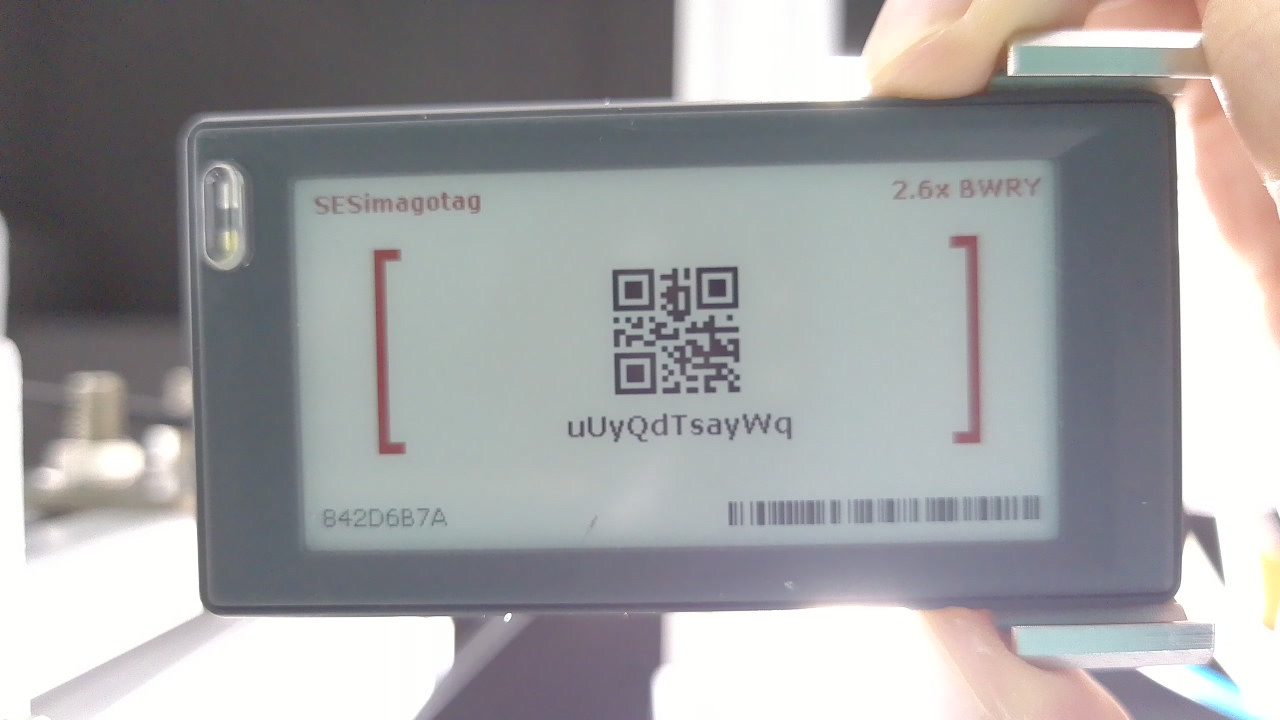flaw: (575, 512, 599, 547)
